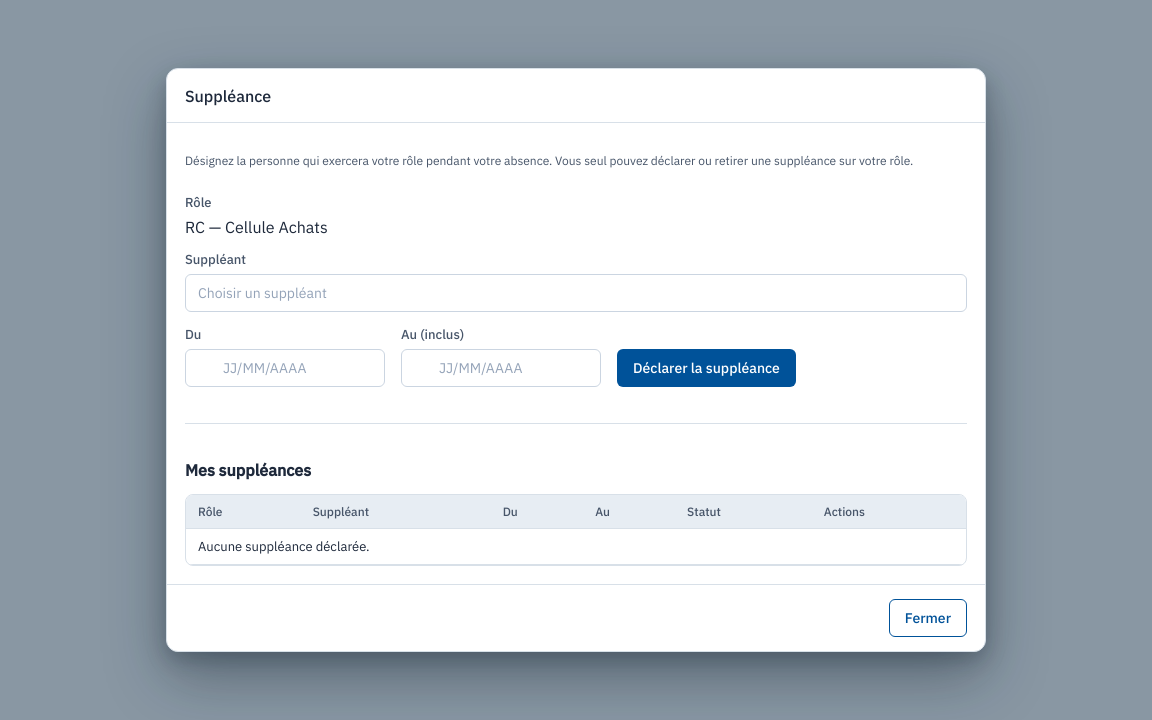
Scenario: SuppleanceModal — déclaration › refuse une suppléance qui commence dans le passé
Click the button "Choisir un suppléant" at (262, 293), box top-left (185, 274), bottom-right (967, 312)
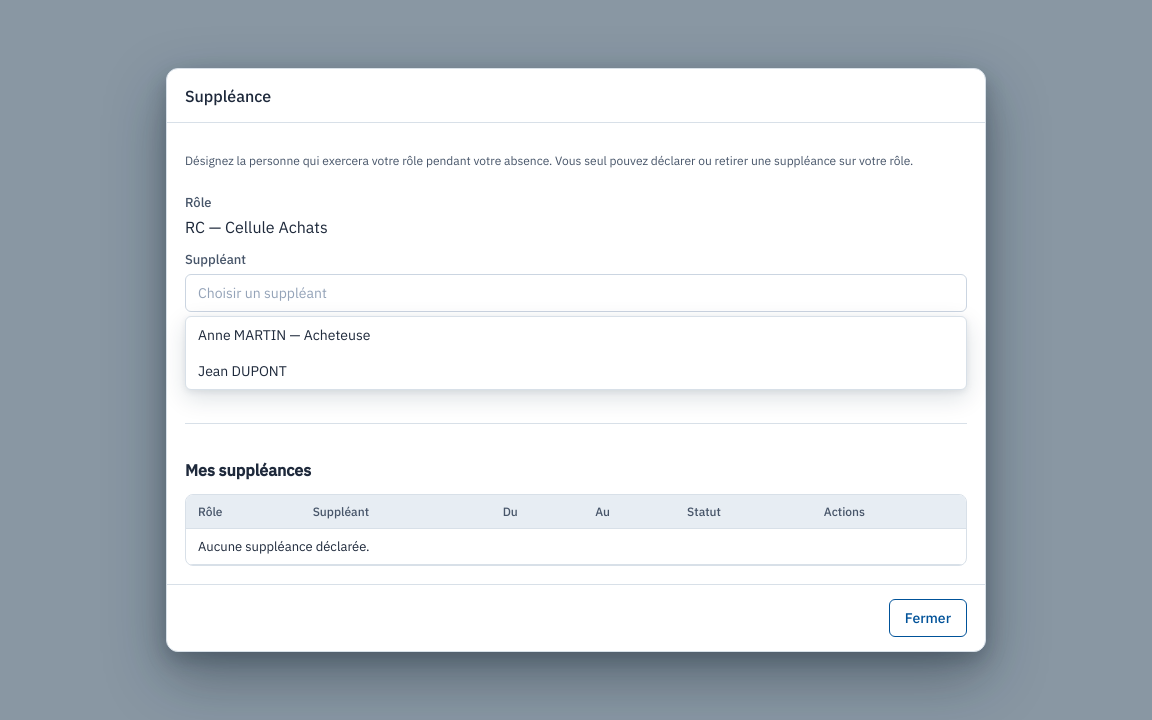
Click the text "Anne MARTIN — Acheteuse" at (284, 335), box top-left (198, 326), bottom-right (370, 344)
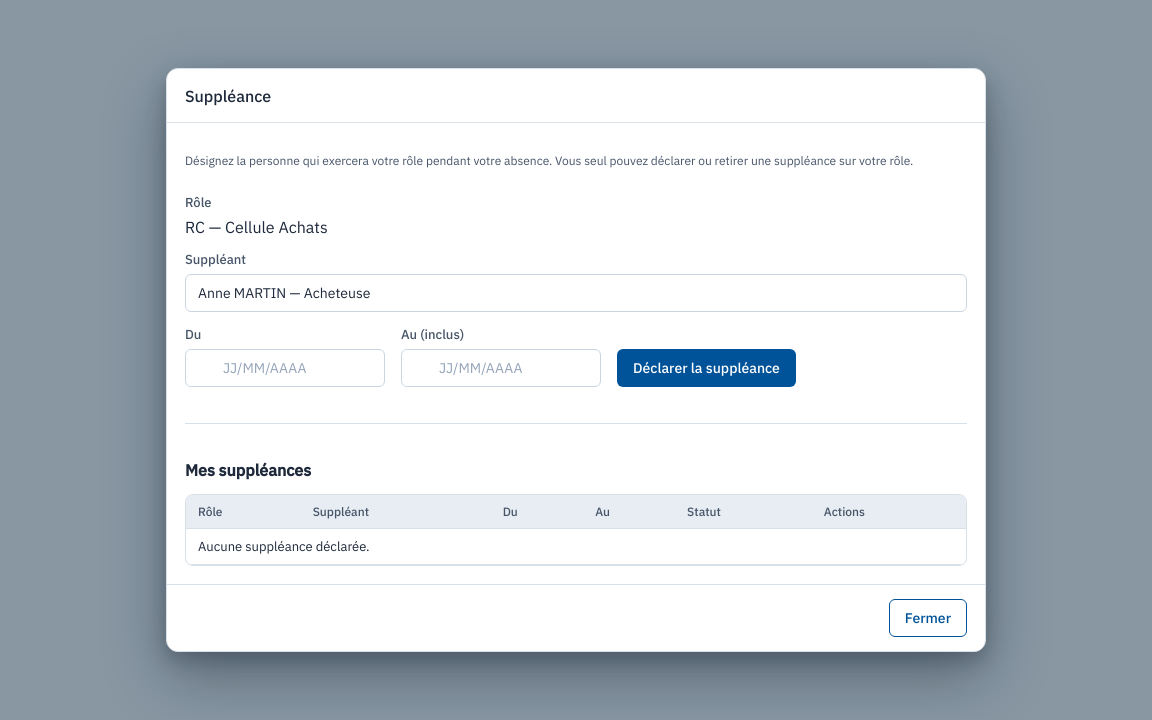
Type "19/09/2026" into the field named "Date de début" at (296, 368), box top-left (221, 358), bottom-right (372, 378)
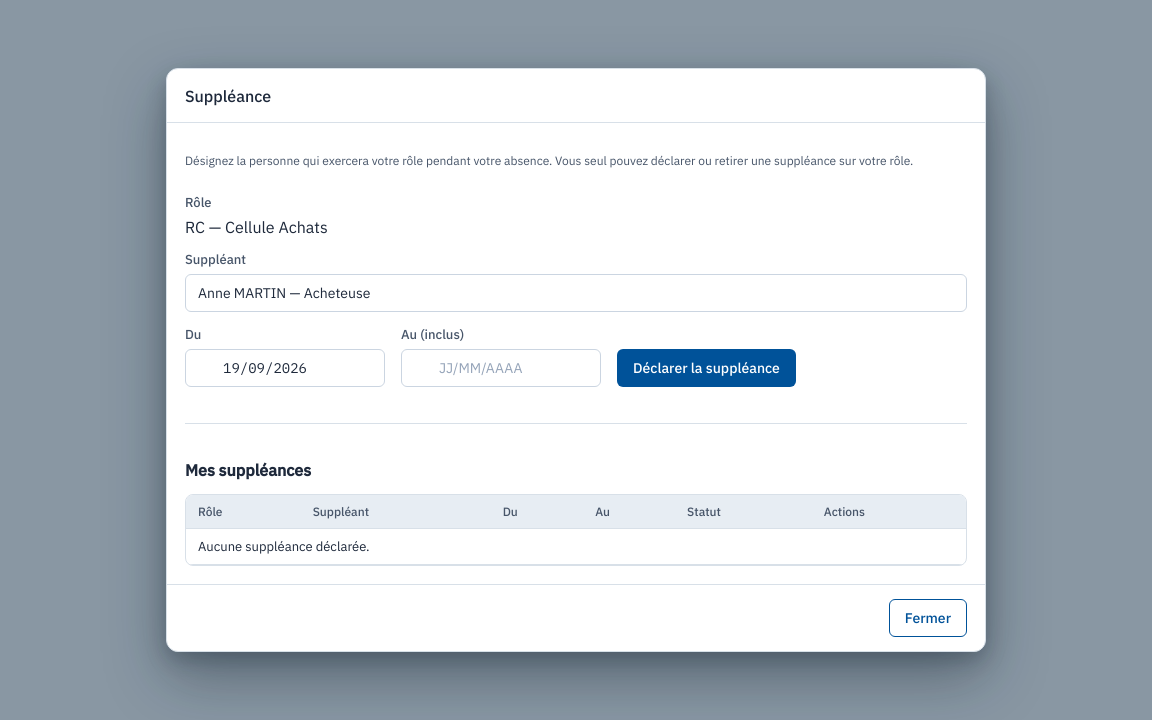
Type "25/09/2026" into the field named "Date de fin" at (512, 368), box top-left (437, 358), bottom-right (588, 378)
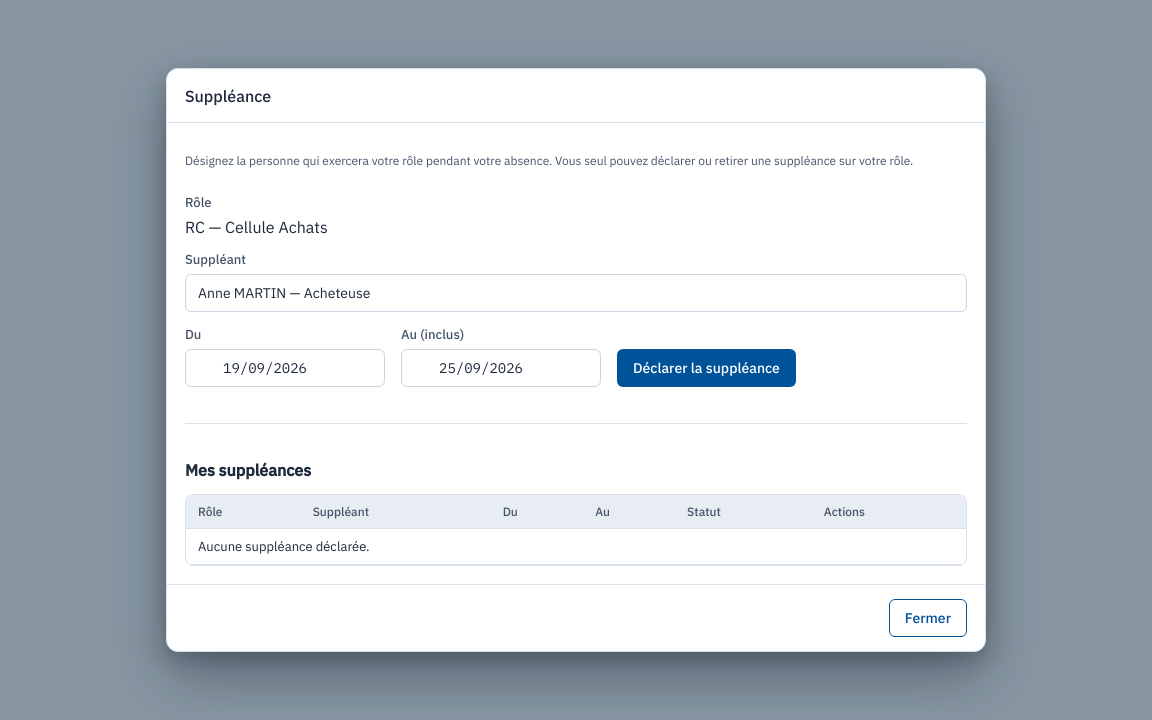
Click the button "Déclarer la suppléance" at (706, 368), box top-left (617, 349), bottom-right (796, 387)
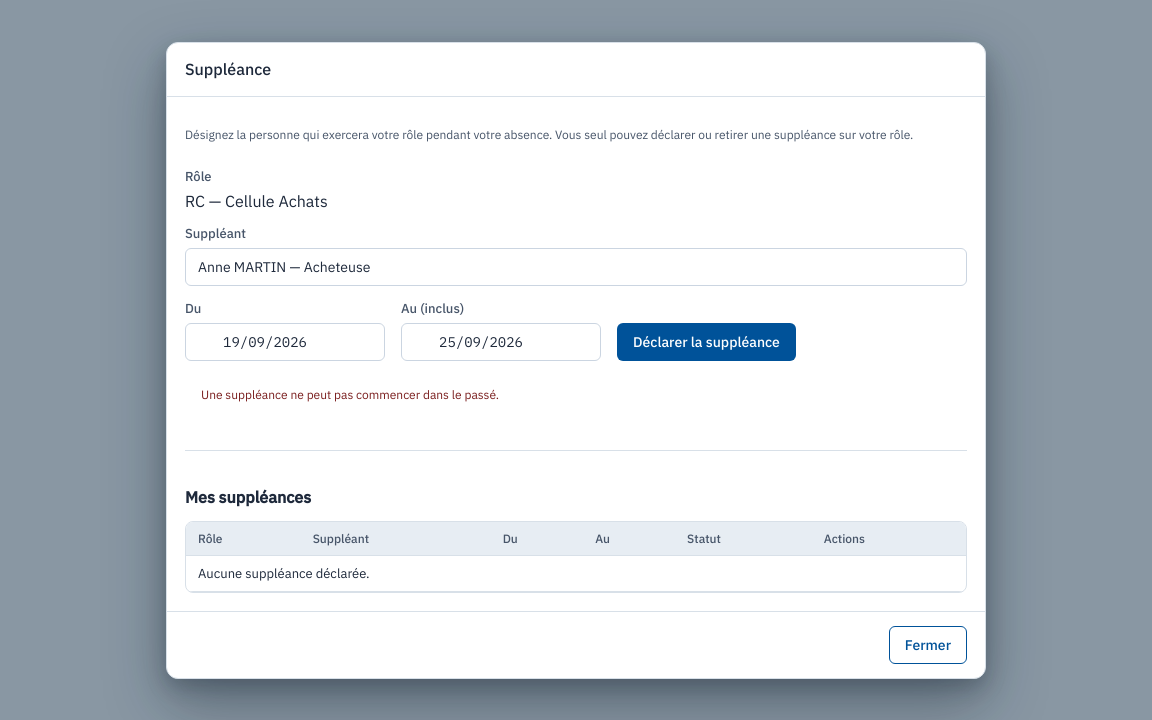
Now the text "Une suppléance ne peut pas commencer dans le passé." is shown, box top-left (185, 386), bottom-right (499, 402)
